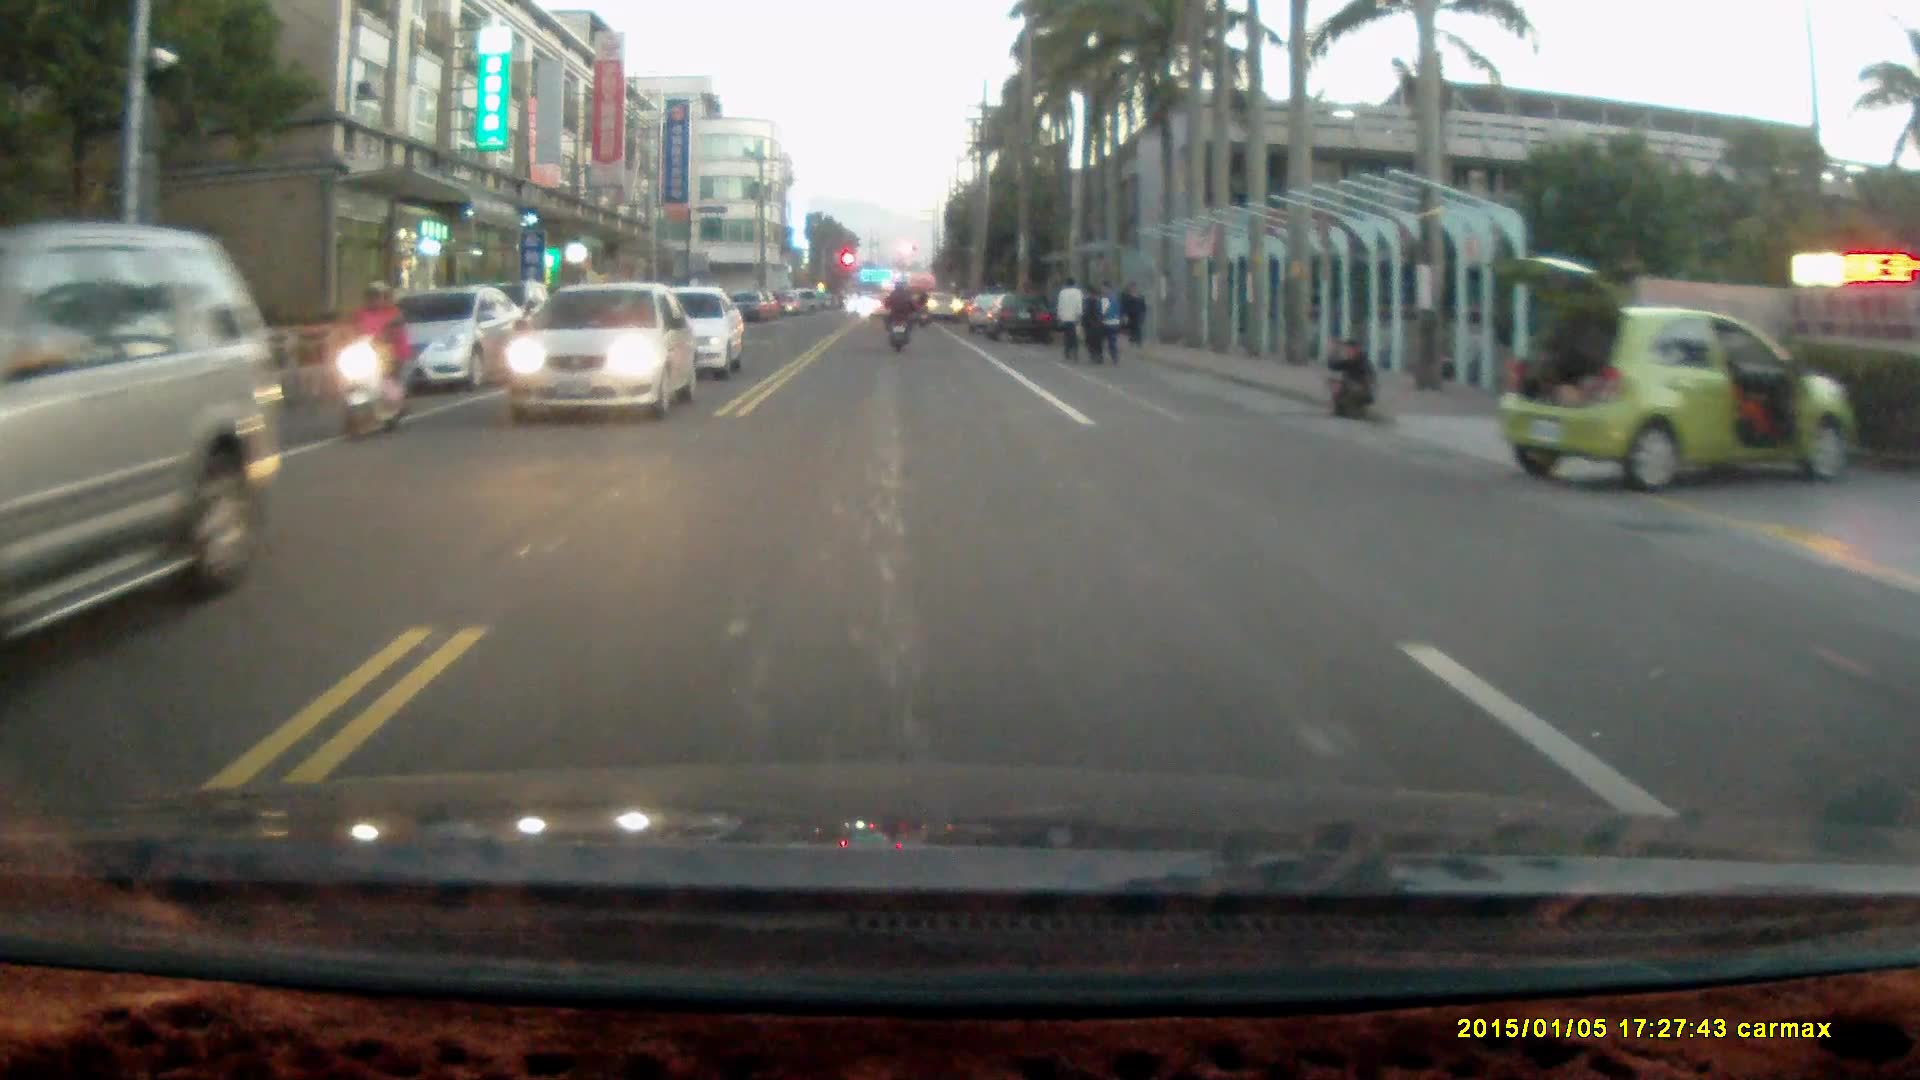pedestrian: (1319, 334, 1378, 421), (1085, 277, 1125, 368), (1054, 274, 1083, 365), (1078, 285, 1107, 371), (1120, 281, 1147, 346)
rider: (340, 281, 417, 442), (879, 279, 914, 356)
vehicle: (1, 226, 284, 698), (1482, 256, 1845, 497), (501, 281, 700, 427), (370, 286, 525, 397), (640, 285, 745, 383), (979, 291, 1053, 342)
